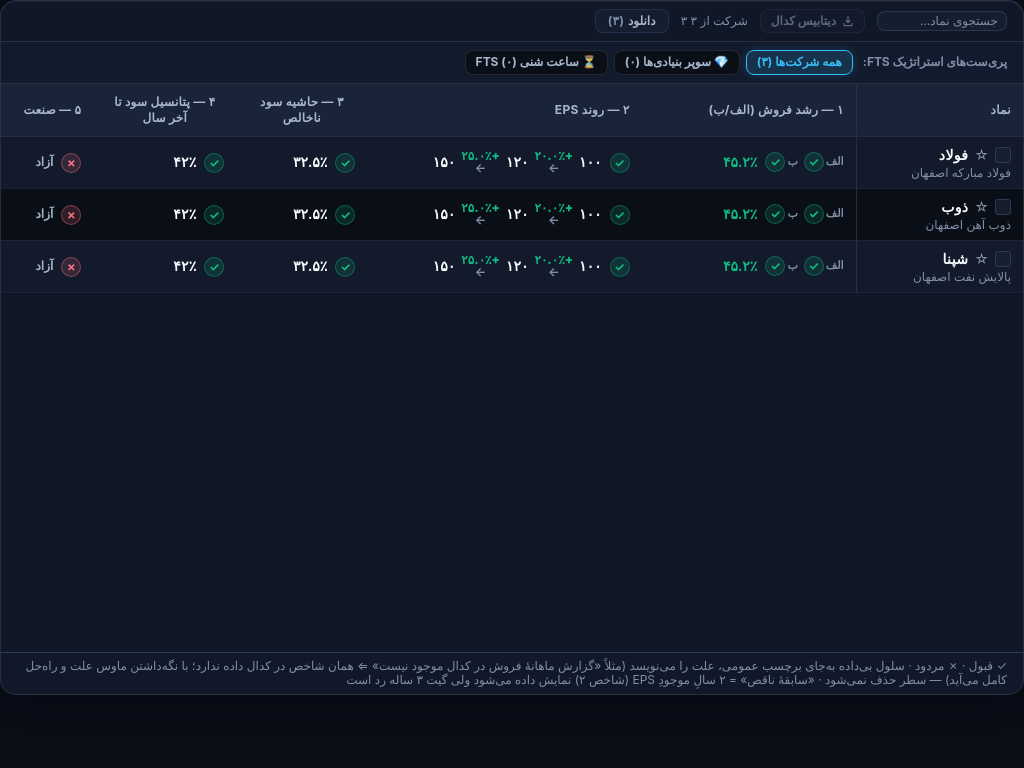
کارایی جدول غربالگری (F-08) › جستجو فقط همین جدول را تنگ می‌کند: «فولاد» یک ردیف می‌گذارد
Check: the number of rows with test id "fts-screen-row" is 3, box x1=1 y1=136 x2=1023 y2=188; x1=1 y1=188 x2=1023 y2=240; x1=1 y1=240 x2=1023 y2=292
Type "فولاد" into the search field with test id "fts-search" at {"x": 942, "y": 21}, box x1=886 y1=14 x2=998 y2=28
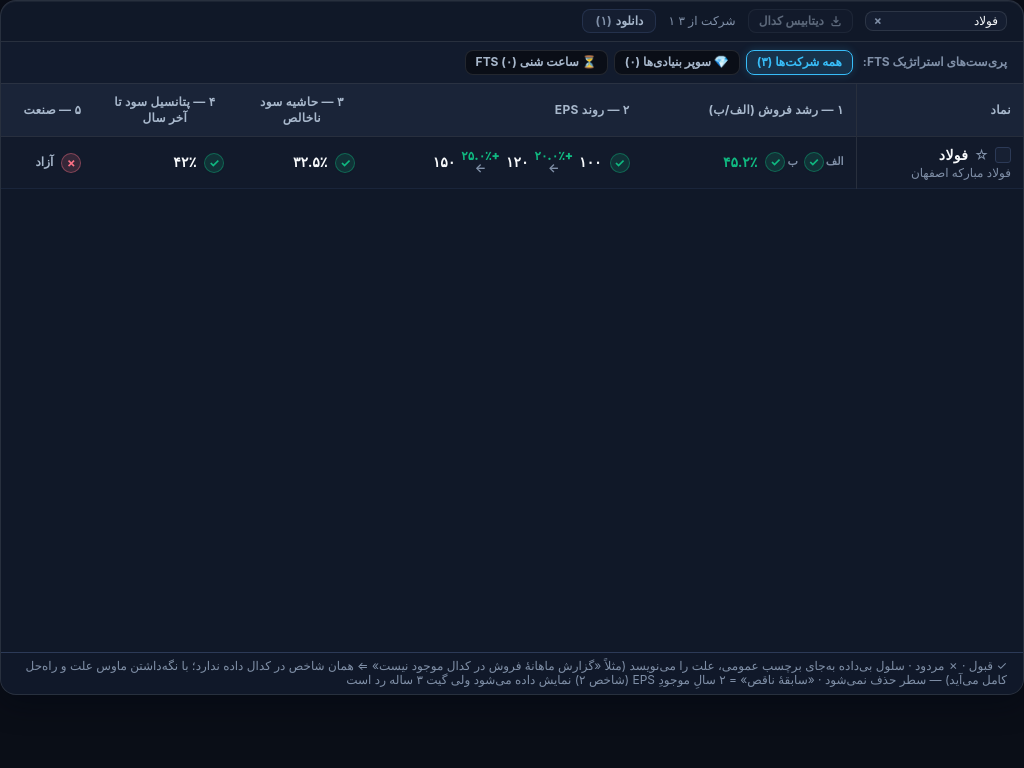
Check: the row with test id "fts-screen-row" shows "فولاد", box x1=939 y1=146 x2=968 y2=163
Check: the number of rows with test id "fts-screen-row" is 1, box x1=1 y1=136 x2=1023 y2=188
Check: the text with test id "fts-screen-row" no longer shows "ذوب"
